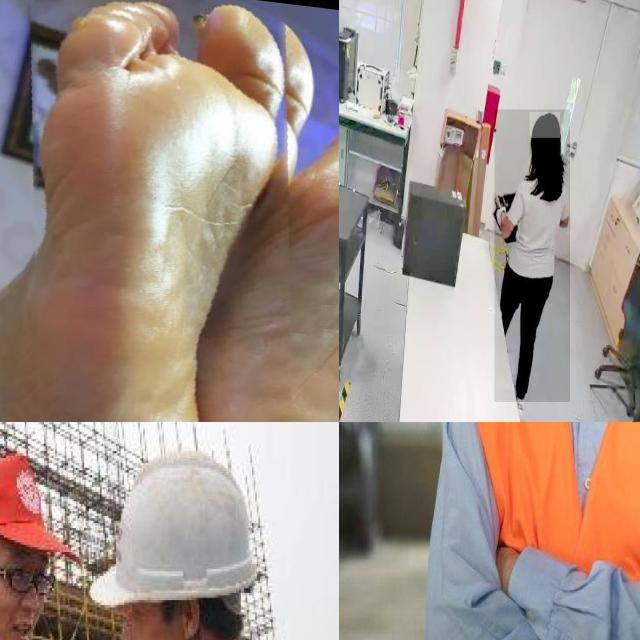Barefoots: (0, 0, 280, 422), (188, 143, 339, 422)
No_Ear-Protection: (174, 596, 203, 640)
face_nomask: (0, 558, 60, 640), (106, 608, 169, 640)
glasses: (0, 563, 59, 601)
hand_glove: (492, 193, 511, 232)
head_helmet: (77, 455, 257, 611)
head_nohelmet: (0, 457, 83, 557), (530, 112, 560, 139)
person: (47, 447, 339, 640), (494, 109, 570, 403), (0, 458, 92, 640)
